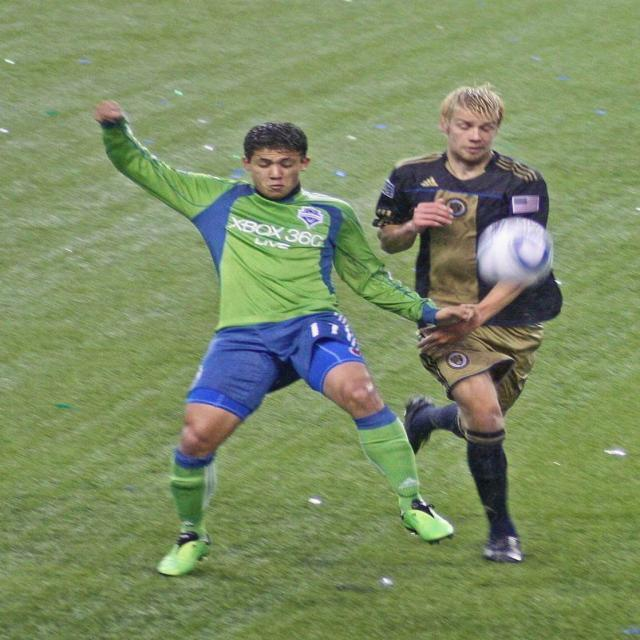ball: (475, 214, 555, 282)
